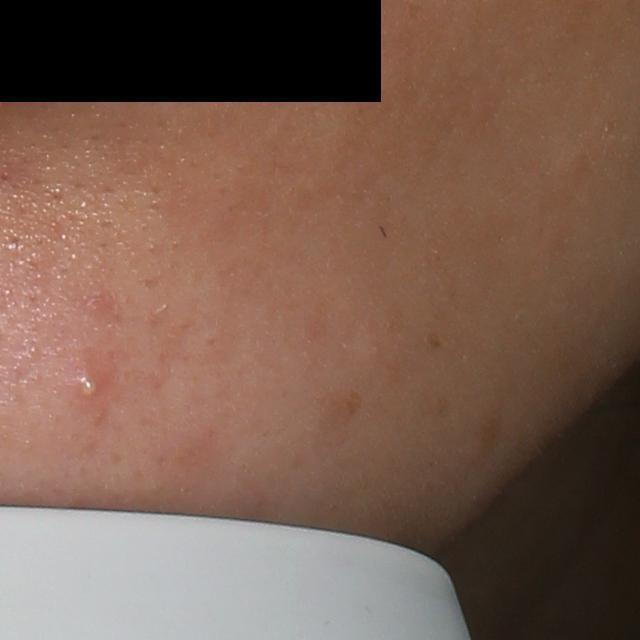pustule: (73, 370, 104, 403)
